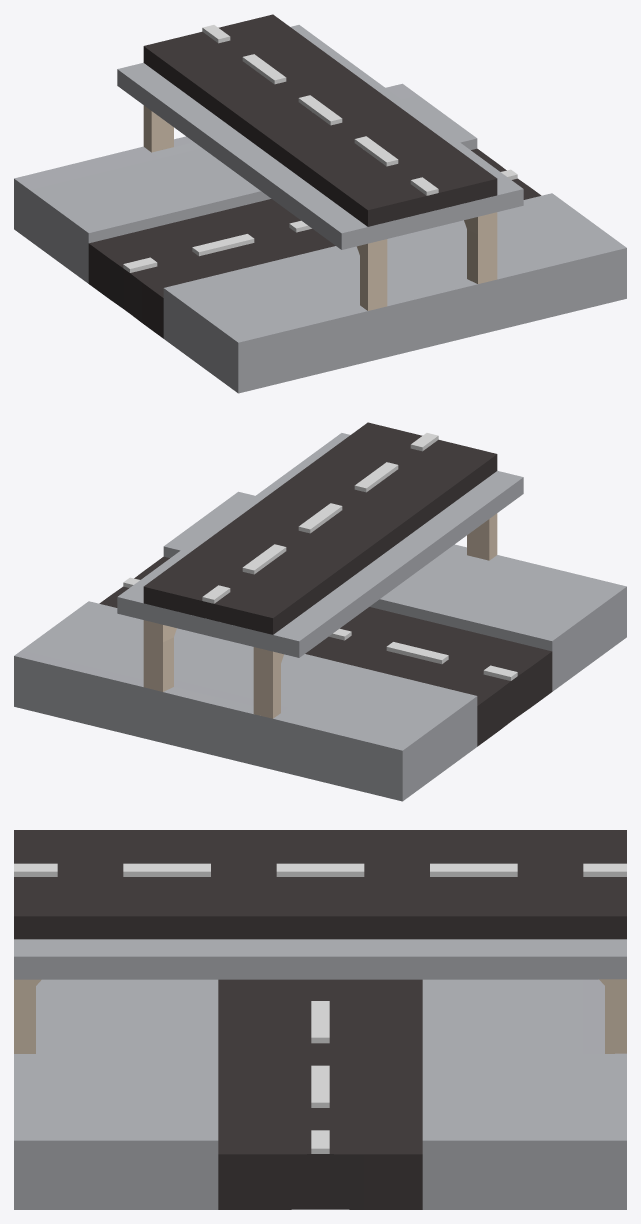
Rendered from Street_Bridge_Underpass.glb.
3 views of the same model, one above another, from view 1: azimuth 30°, elevation 25°; view 2: azimuth 150°, elevation 25°; view 3: azimuth 270°, elevation 25° (orthographic). The views are drawn at different scales.
Visible parts, largest first — view 1: Street_Bridge_Underpass; view 2: Street_Bridge_Underpass; view 3: Street_Bridge_Underpass.
Boxes of the visible parts, x1=… form: Street_Bridge_Underpass: x1=14, y1=14, x2=626, y2=393; Street_Bridge_Underpass: x1=14, y1=422, x2=626, y2=801; Street_Bridge_Underpass: x1=14, y1=830, x2=626, y2=1209.
Bounding box in the file's own units: 2 × 0.7659 × 2.
